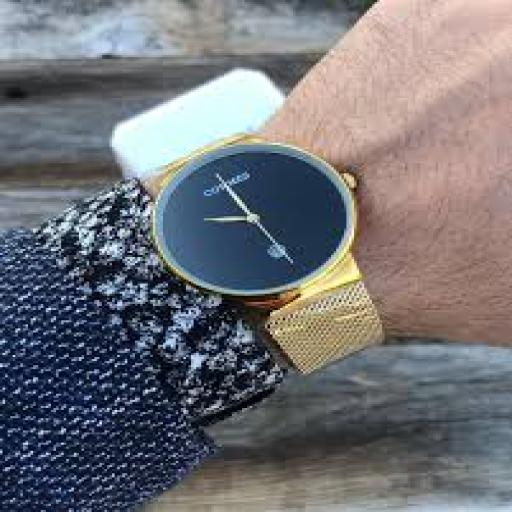KolSaati: (84, 95, 421, 373)
